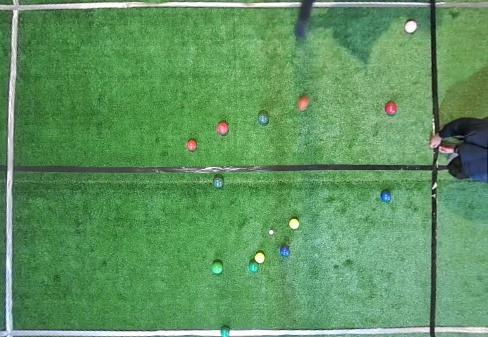blue: (380, 191, 392, 203), (279, 247, 290, 258)
green: (212, 262, 223, 275), (213, 178, 224, 190), (257, 113, 268, 125), (248, 263, 258, 273), (221, 329, 231, 337)
red: (404, 20, 417, 33), (217, 122, 229, 135), (385, 102, 397, 115), (298, 97, 309, 111), (187, 140, 197, 151)
vline: (430, 151, 487, 337), (429, 0, 487, 133), (0, 0, 21, 337)
white: (269, 230, 274, 236)
yellow: (288, 220, 299, 230), (255, 254, 265, 264)
